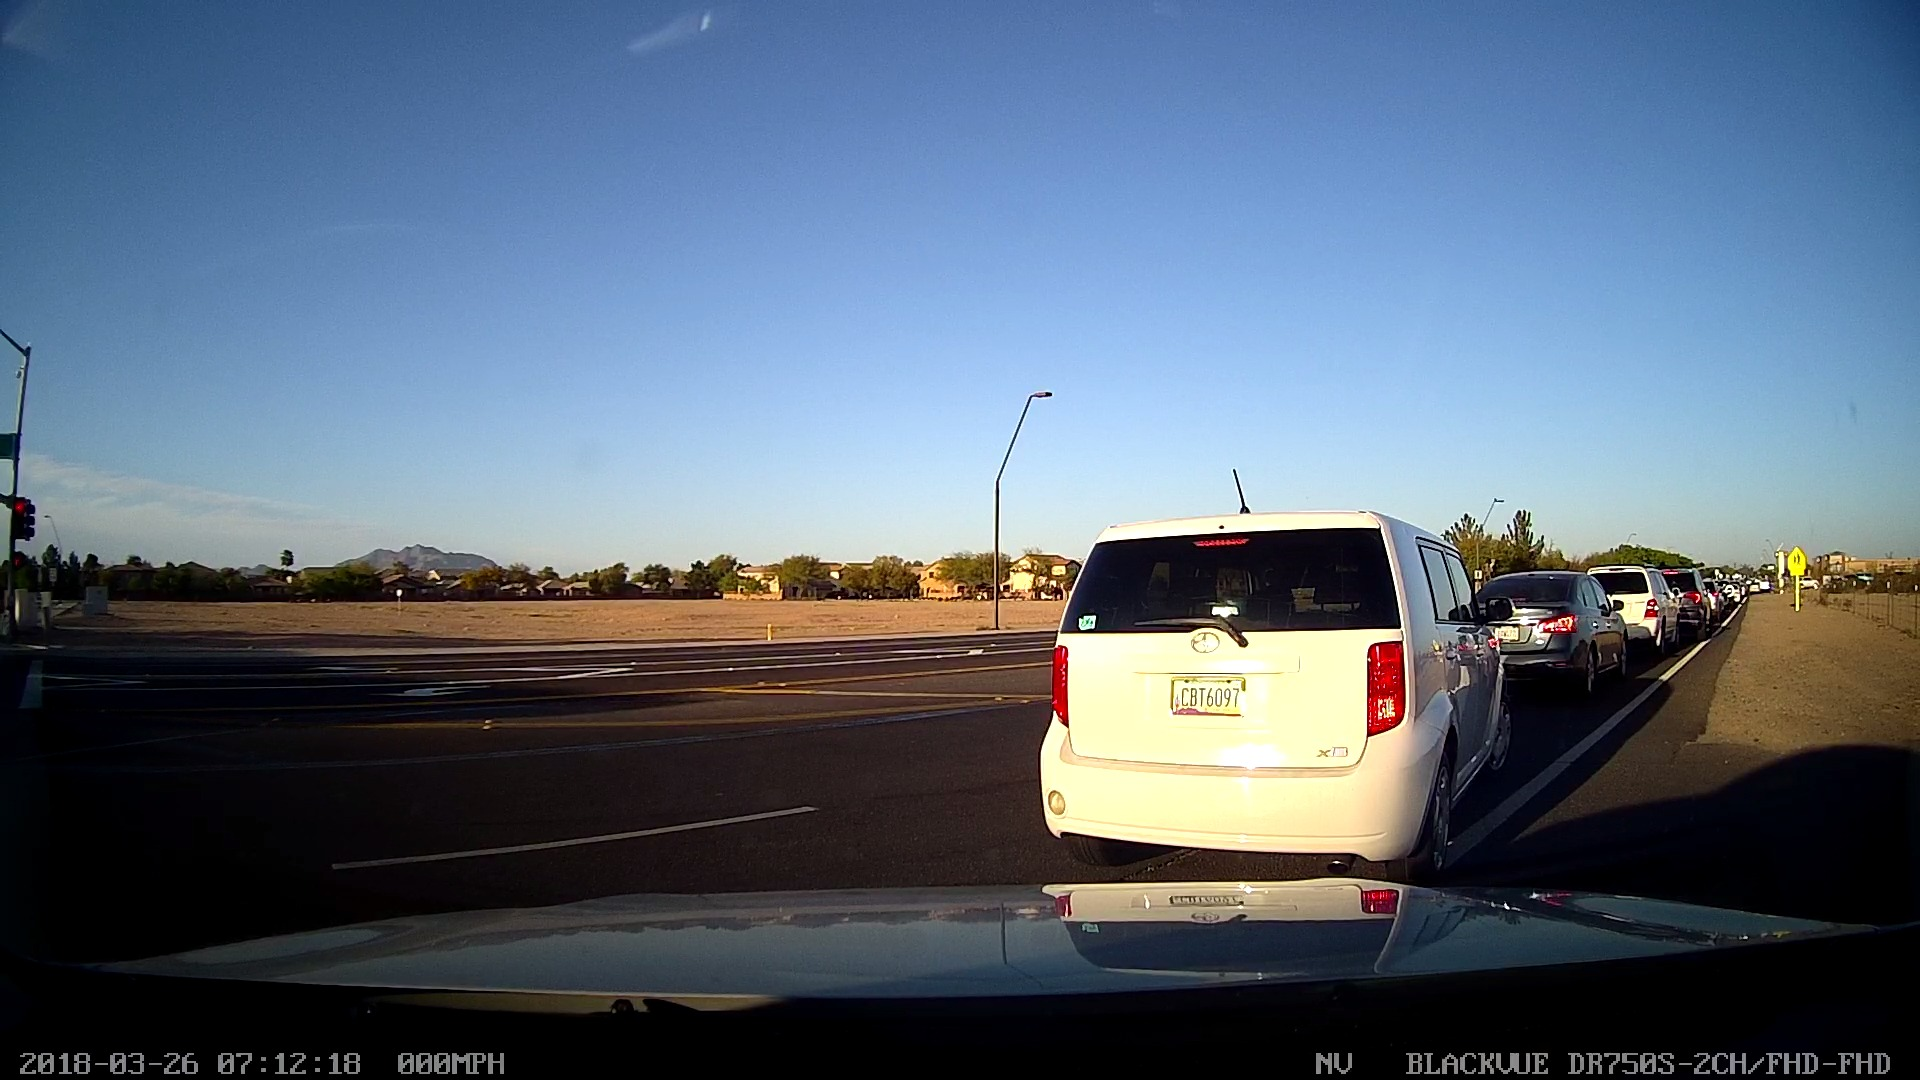plate: (1169, 676, 1249, 721), (1492, 617, 1521, 646)
vehicle: (1036, 512, 1511, 857), (1478, 567, 1621, 696), (1593, 560, 1671, 649)
